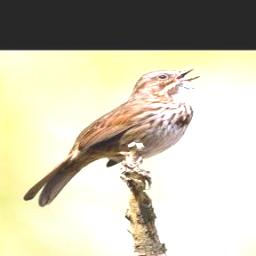Sparrow: (22, 64, 205, 208)
